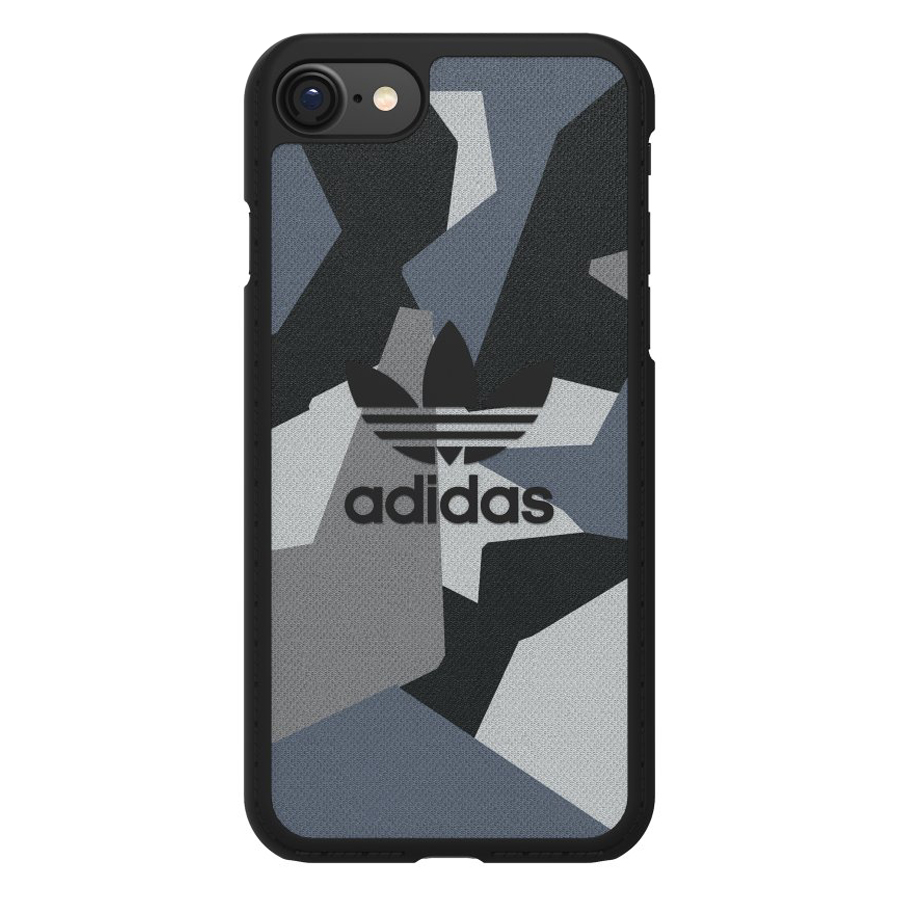Adidas: (340, 312, 561, 530)
